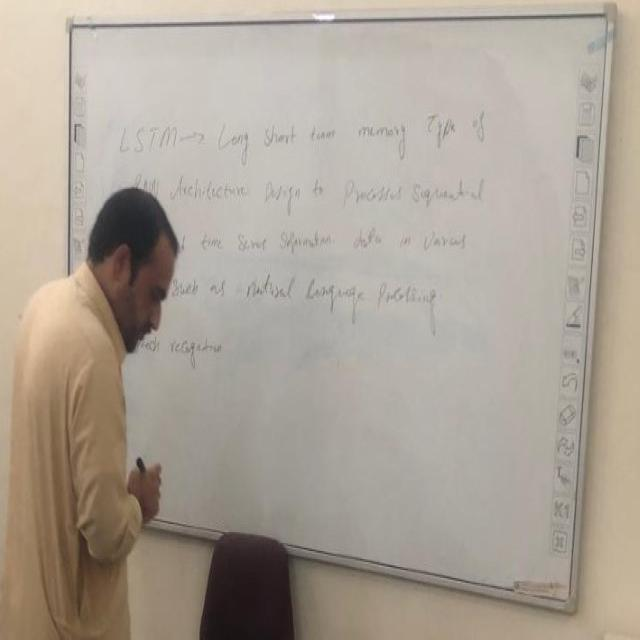Instructor: (36, 184, 180, 628)
White-board: (65, 14, 611, 601)
